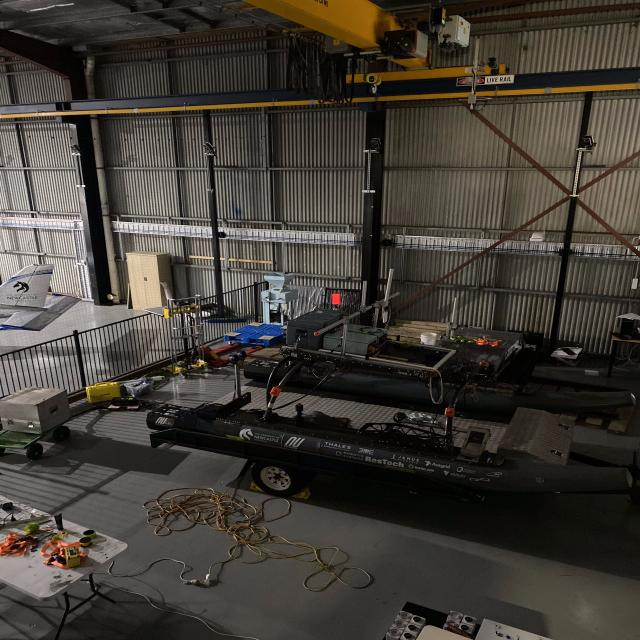matrix: (329, 293, 342, 306)
